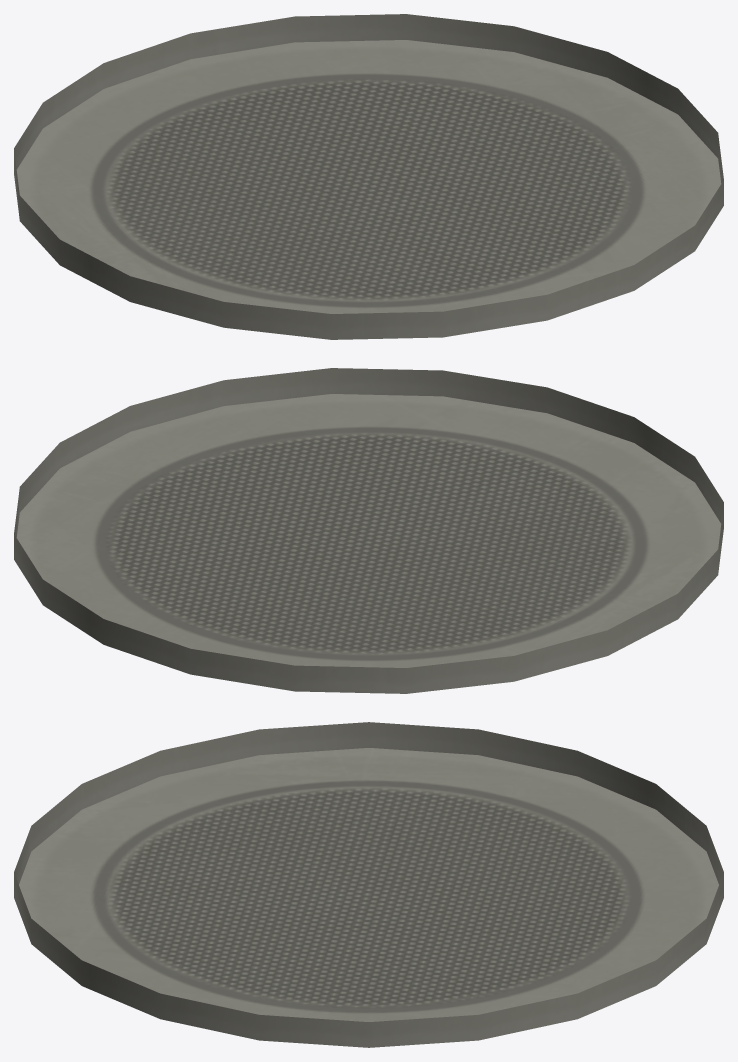
File: SpeakerCeiling.fbx
3 views of the same model, one above another, from view 1: azimuth 30°, elevation 25°; view 2: azimuth 150°, elevation 25°; view 3: azimuth 270°, elevation 25° (orthographic).
Parts seen in each view (by area): view 1: SpeakerCeiling; view 2: SpeakerCeiling; view 3: SpeakerCeiling.
Boxes of the visible parts, x1,y1,x2,y2 form: SpeakerCeiling: [14, 14, 723, 339]; SpeakerCeiling: [14, 368, 723, 693]; SpeakerCeiling: [14, 722, 723, 1047].
Size of the model in its own units: 30 by 1.2 by 30.
